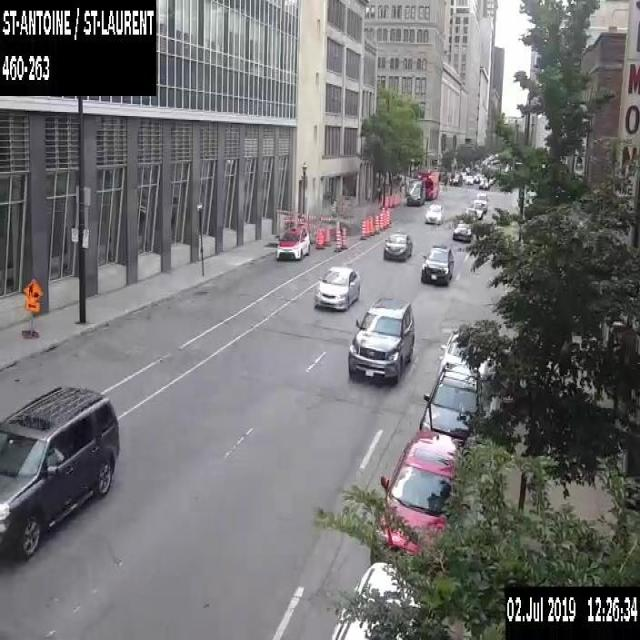construction: (21, 276, 45, 337), (275, 208, 315, 236), (333, 228, 342, 251), (315, 226, 324, 247), (340, 226, 346, 248), (324, 225, 330, 246), (360, 219, 366, 239), (374, 214, 379, 233), (365, 216, 370, 235), (382, 210, 387, 228), (379, 212, 383, 230), (369, 216, 373, 234), (388, 209, 392, 223), (386, 209, 388, 225), (382, 206, 384, 212)
vehicle: (0, 382, 119, 558), (369, 430, 465, 566), (330, 562, 420, 638), (346, 294, 414, 382), (418, 361, 486, 448), (438, 327, 490, 384), (310, 262, 362, 310), (420, 243, 455, 285), (276, 220, 310, 260), (382, 231, 414, 261), (406, 178, 426, 204), (453, 218, 472, 240), (425, 202, 443, 224), (475, 191, 488, 211), (449, 172, 462, 184), (464, 206, 477, 218), (478, 177, 489, 189), (464, 174, 474, 184), (473, 172, 481, 182)
